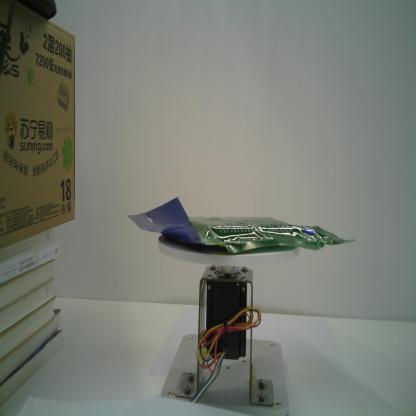Dried Food: (125, 194, 357, 257)
